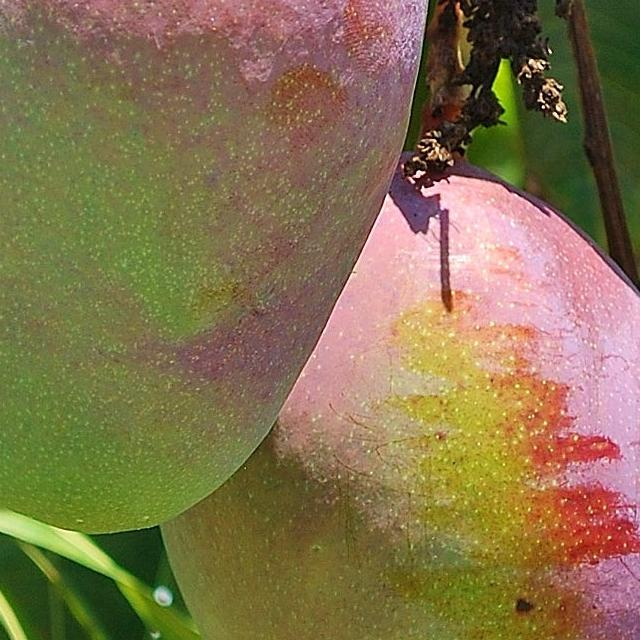mango: (164, 164, 640, 640)
